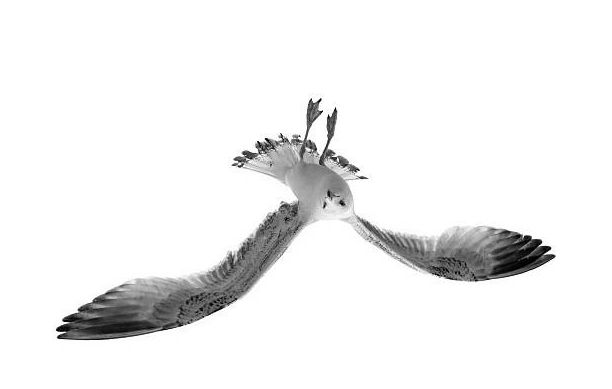Bird: (48, 95, 559, 342)
